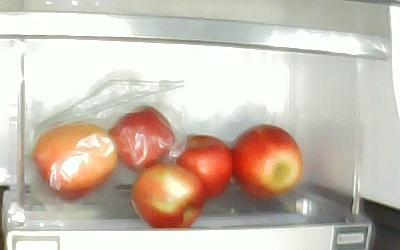apple: (231, 124, 303, 200), (130, 161, 205, 228), (174, 133, 232, 199)
apple_vinyl: (32, 122, 117, 201), (108, 106, 176, 174)
